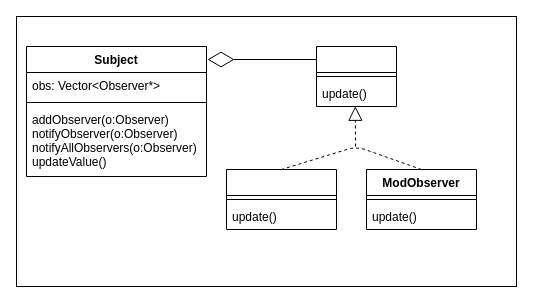
This 533x303 diagram has some shape labels left out. The shapes that lost their labels are listed below. From the top down, each one's box as (x1, y1, x2, y2) in pixels, then its label:
(316, 46, 396, 106): Observer
(226, 168, 336, 230): DivObserver
